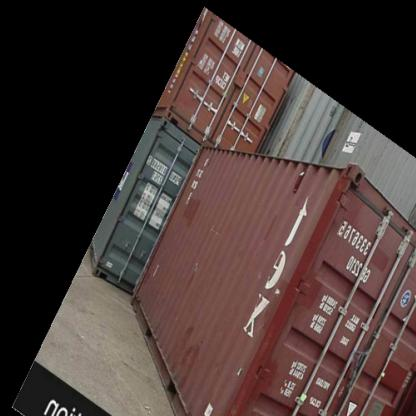Damage: (198, 216, 226, 240), (144, 256, 168, 280), (226, 360, 254, 380), (186, 256, 202, 276)
